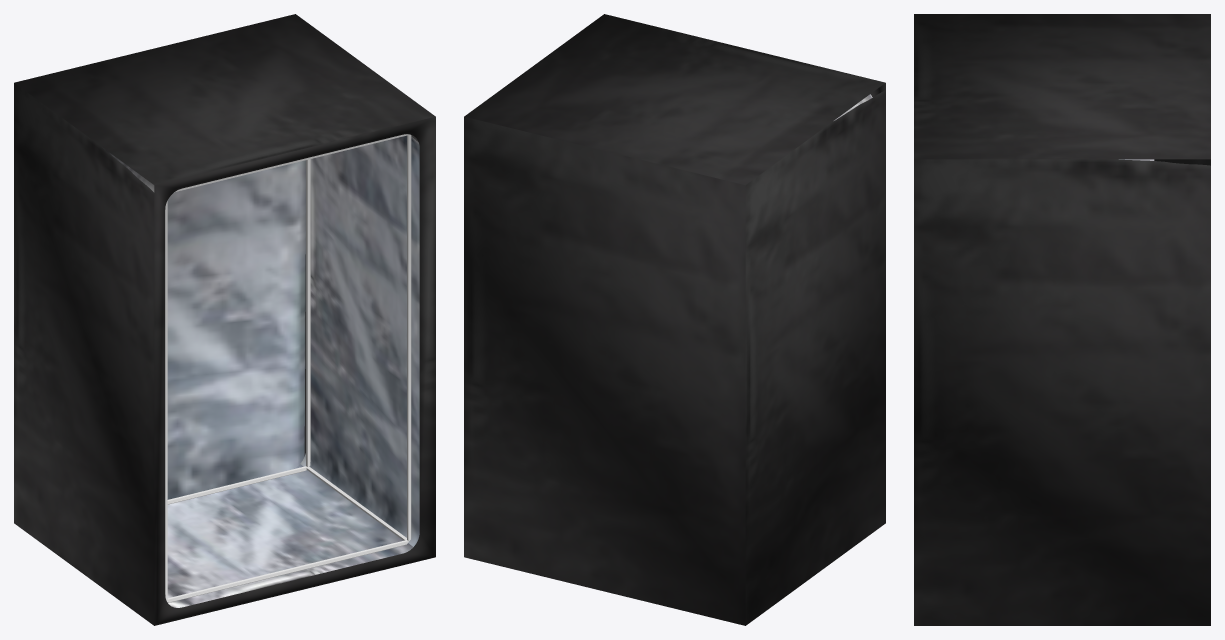
The model's file is growing_tent.FBX.
The picture shows the model from 3 angles, left to right: view 1: azimuth 30°, elevation 25°; view 2: azimuth 150°, elevation 25°; view 3: azimuth 270°, elevation 25°; orthographic projection. The views are drawn at different scales.
Visible parts, largest first — view 1: growing_tent; view 2: growing_tent; view 3: growing_tent.
Boxes of the visible parts, bbox=[...] form: growing_tent: bbox=[14, 14, 435, 625]; growing_tent: bbox=[464, 14, 885, 625]; growing_tent: bbox=[914, 14, 1210, 625].
Size of the model in its own units: 61.67 by 92.26 by 53.21.
